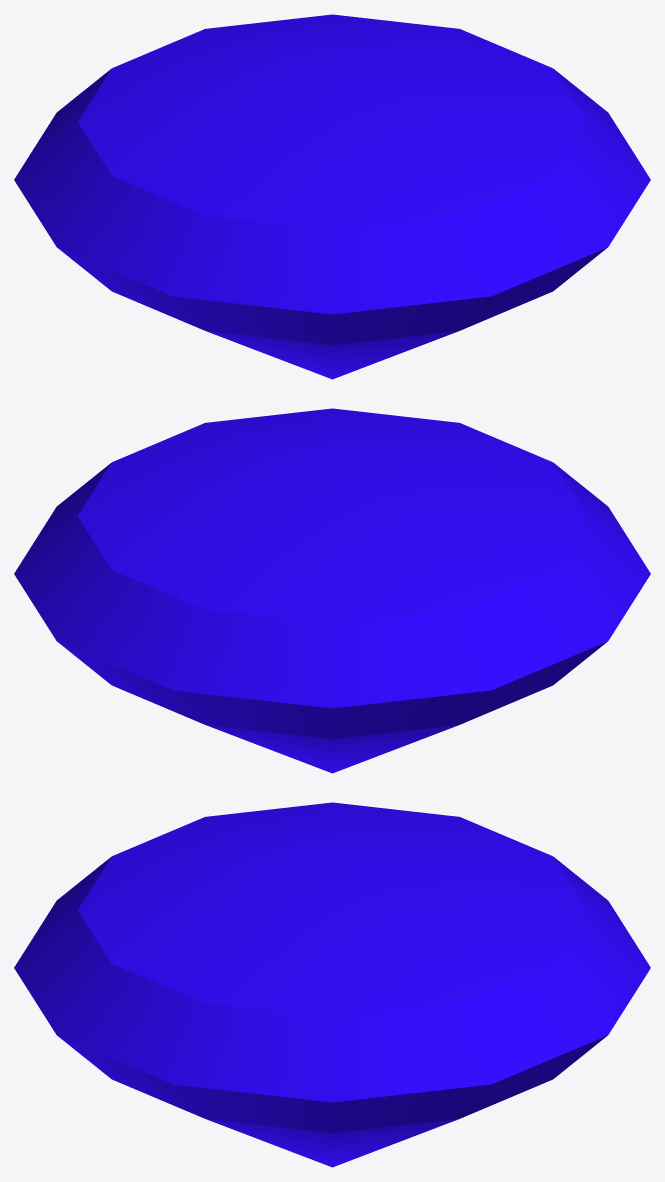
Rendered from gemstone.FBX.
3 views of the same model, one above another, from view 1: azimuth 30°, elevation 25°; view 2: azimuth 150°, elevation 25°; view 3: azimuth 270°, elevation 25° (orthographic).
Parts seen in each view (by area): view 1: Gemstone; view 2: Gemstone; view 3: Gemstone.
Boxes of the visible parts, left/top/right/bottom form: Gemstone: left=14, top=14, right=650, bottom=379; Gemstone: left=14, top=408, right=650, bottom=773; Gemstone: left=14, top=802, right=650, bottom=1167.
Size of the model in its own units: 50 by 27.01 by 50.
